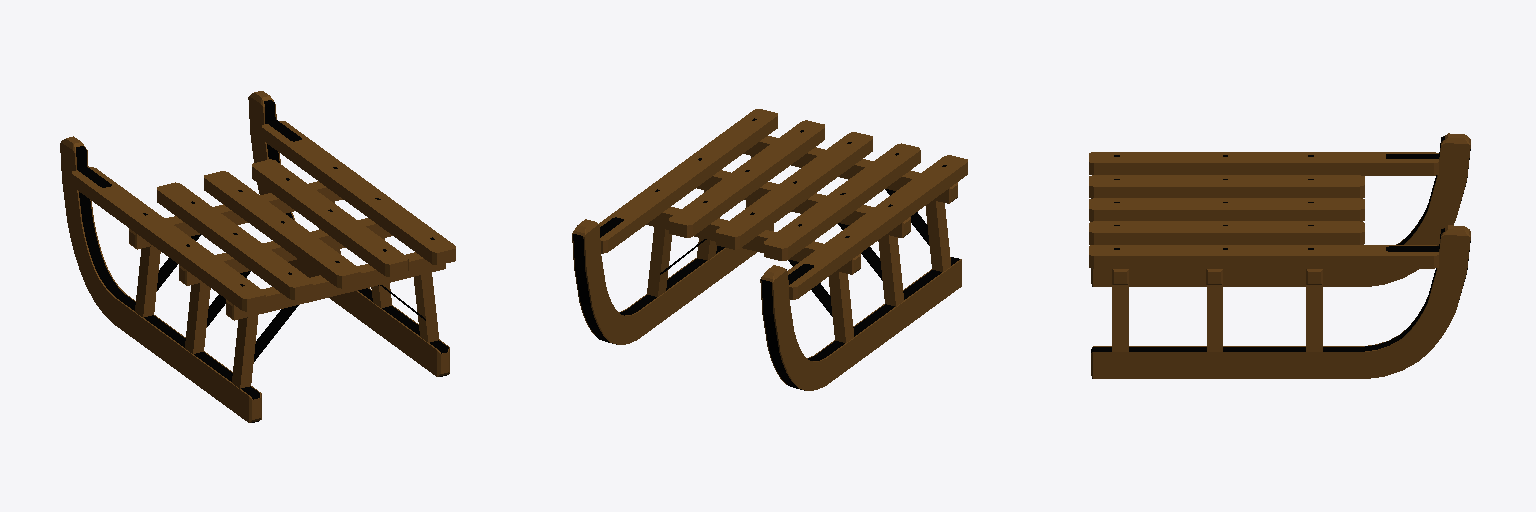
File: toboggan.obj
The picture shows the model from 3 angles: view 1: azimuth 30°, elevation 25°; view 2: azimuth 150°, elevation 25°; view 3: azimuth 270°, elevation 25°; orthographic projection.
Parts seen in each view (by area): view 1: Cube; view 2: Cube; view 3: Cube.
Part boxes in pixels (x1,y1,x2,y2): Cube: (60,91,455,422); Cube: (572,109,967,390); Cube: (1089,133,1470,378).
Size of the model in its own units: 2.61 by 1.74 by 4.04.